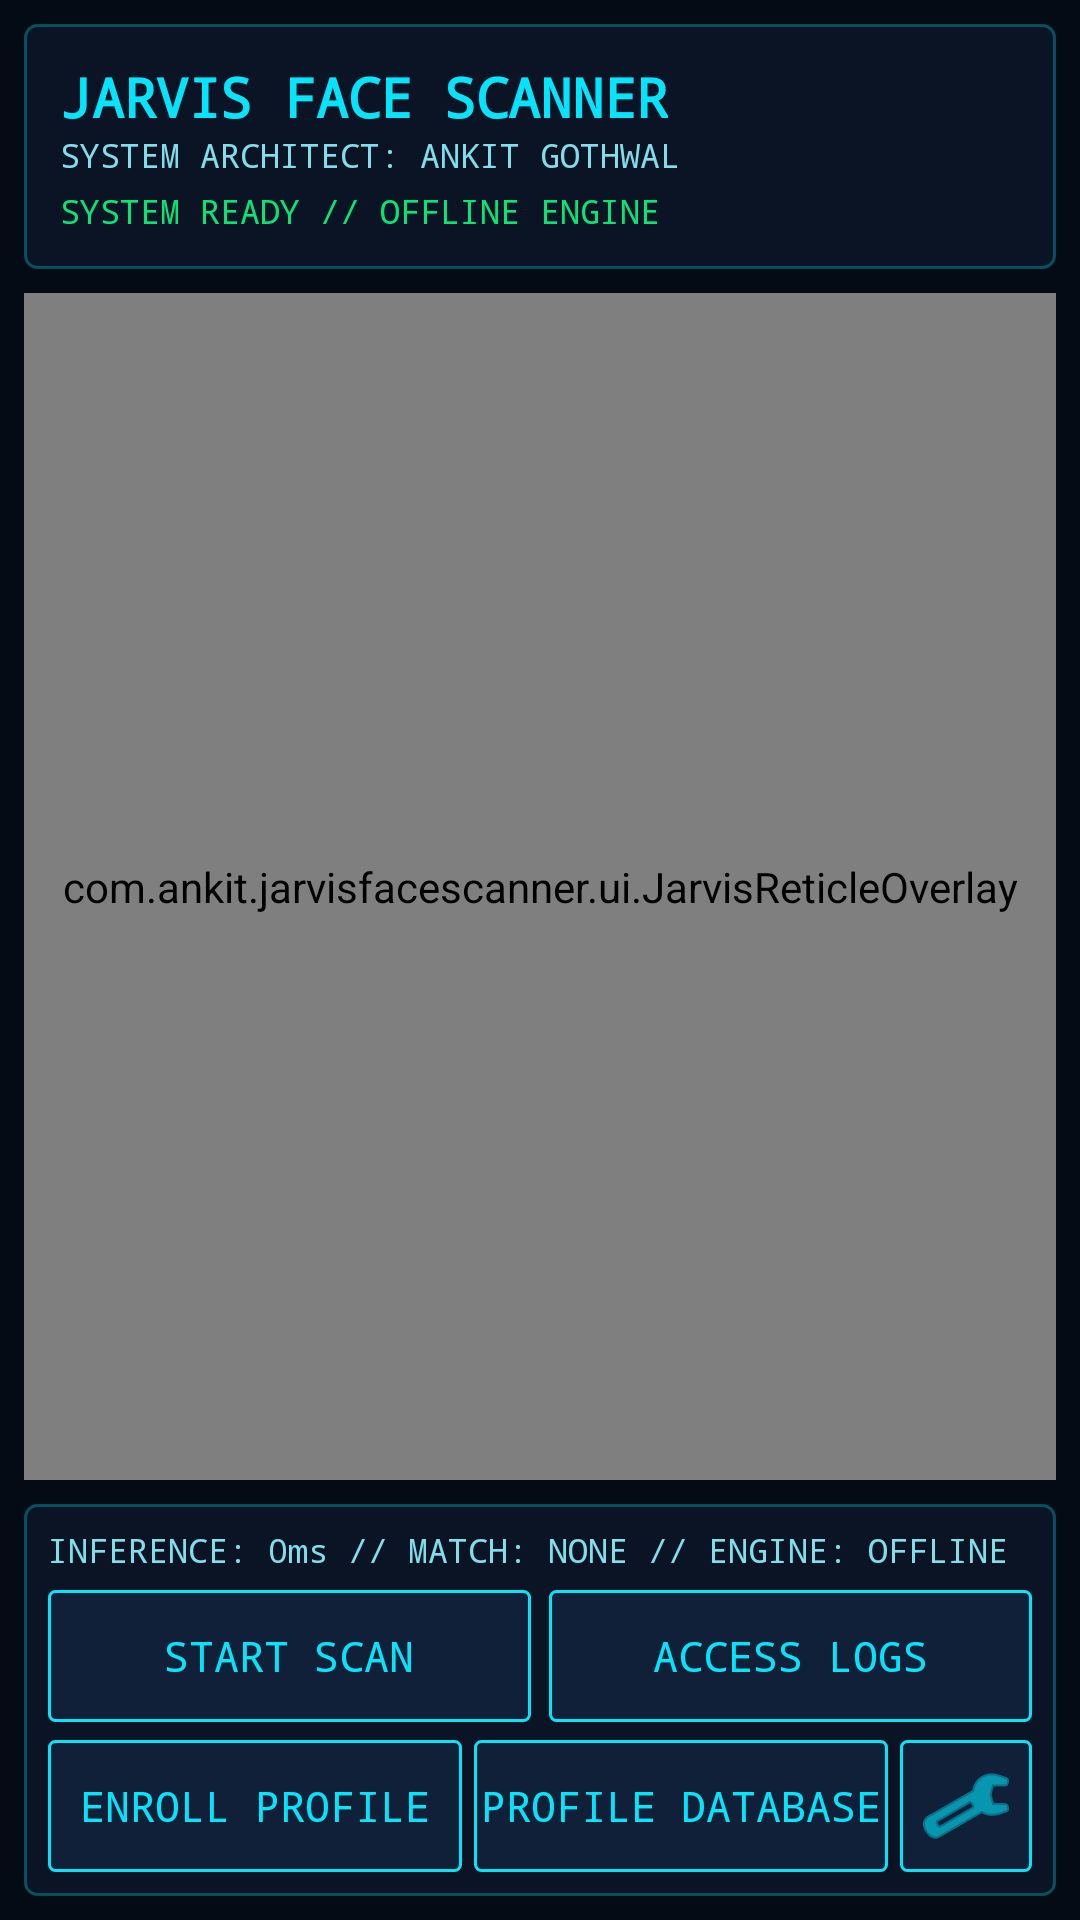

Where to tap for icons on this 1080x1920 app screen, as point (x, y):
Settings: point (966, 1806)
